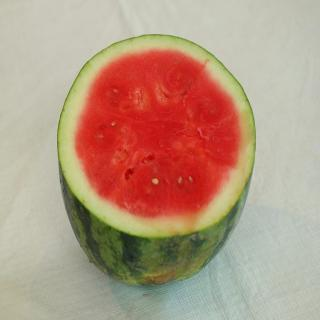Watermelon: (56, 33, 256, 288)
